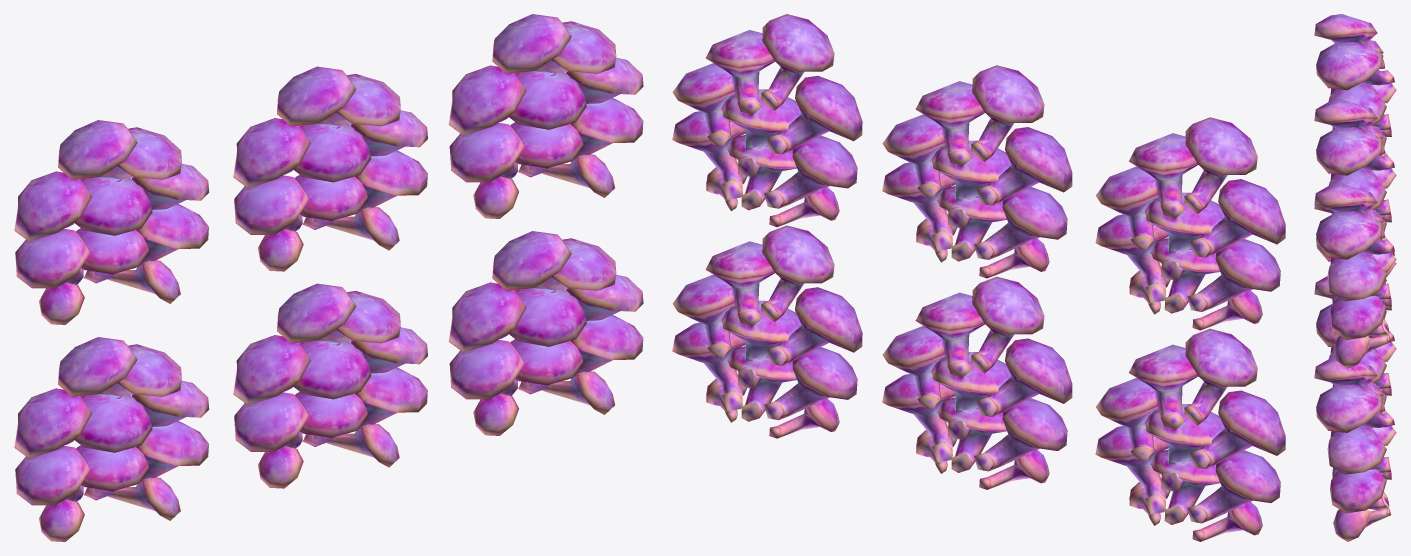
The model's file is mushrooms.glb.
3 renders of one model, left to right at view 1: azimuth 30°, elevation 25°; view 2: azimuth 150°, elevation 25°; view 3: azimuth 270°, elevation 25°, orthographic. The views are drawn at different scales.
Visible parts, largest first — view 1: Sphere.005; view 2: Sphere.005; view 3: Sphere.005.
Part boxes in pixels (bbox=[...]): Sphere.005: bbox=[14, 14, 643, 541]; Sphere.005: bbox=[672, 14, 1285, 541]; Sphere.005: bbox=[1314, 14, 1396, 541].
Size of the model in its own units: 1.15 by 0.7274 by 0.165.
6 materials, 6 textured.
